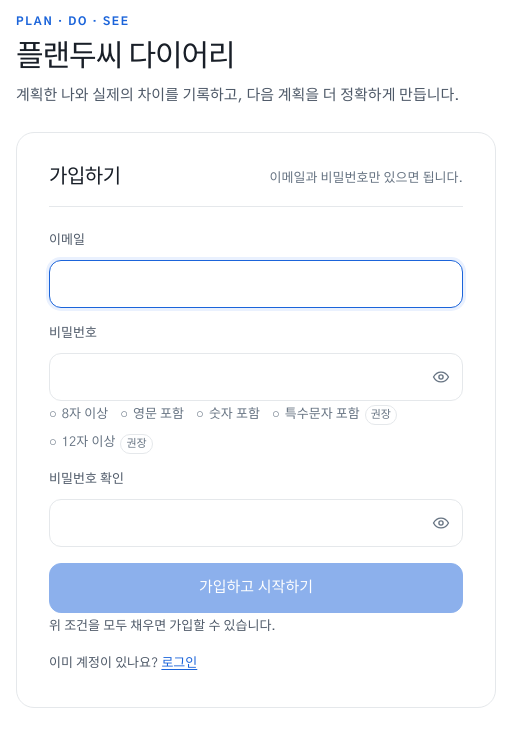
it: 강도 표시 › 첫 글자부터 나타나고, 비어 있으면 나타나지 않는다
The width and height of the screenshot is (513, 733).
Check: the text "비밀번호 강도" is not shown
Type "a" into the password field labelled "비밀번호". click: {"x": 256, "y": 377}
box: [49,353,463,401]
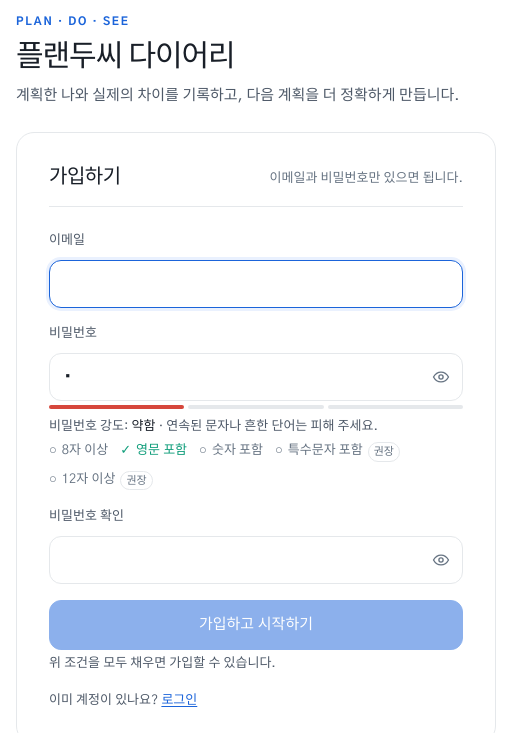
Check: the text "비밀번호 강도: 약함 · 연속된 문자나 흔한 단어는 피해 주세요." is shown, box [49,420,378,433]
